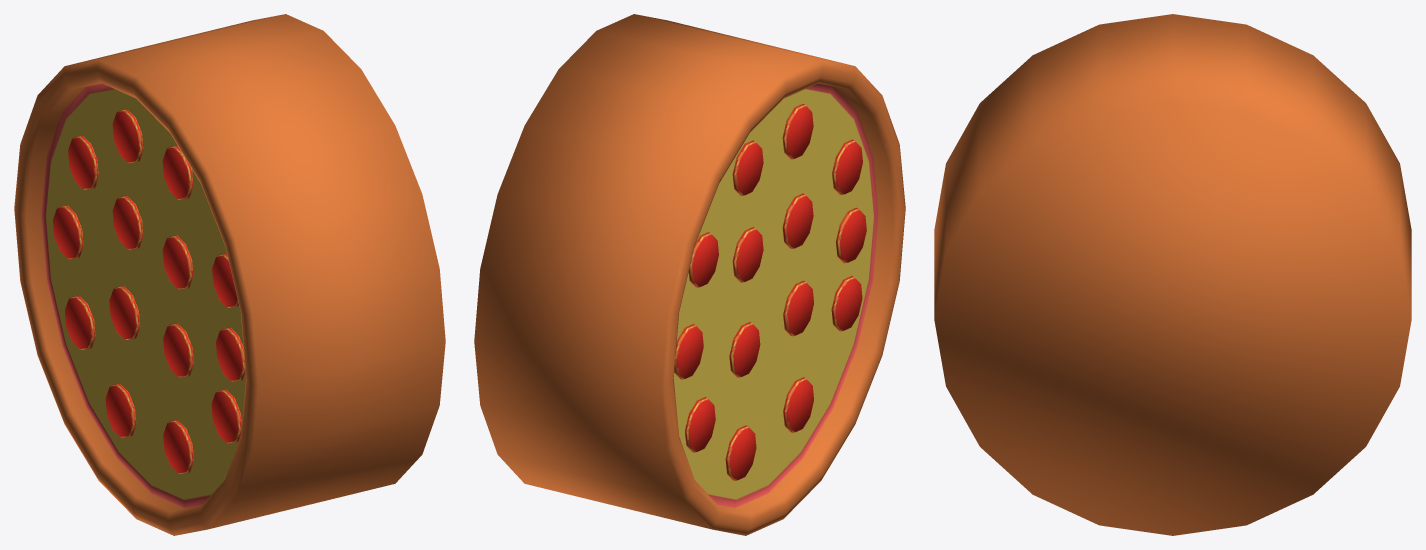
File: obj_pizza_wheels.fbx
3 views of the same model, side by side, from view 1: azimuth 30°, elevation 25°; view 2: azimuth 150°, elevation 25°; view 3: azimuth 270°, elevation 25° (orthographic). The views are drawn at different scales.
Parts seen in each view (by area): view 1: obj_wheels_pizza_RL; view 2: obj_wheels_pizza_RL; view 3: obj_wheels_pizza_RL.
Part boxes in pixels (left/top/right/bottom): obj_wheels_pizza_RL: left=14, top=14, right=445, bottom=535; obj_wheels_pizza_RL: left=474, top=14, right=905, bottom=535; obj_wheels_pizza_RL: left=934, top=14, right=1411, bottom=535.
Size of the model in its own units: 0.2957 by 0.6579 by 0.6579.
1 material, 1 textured.
